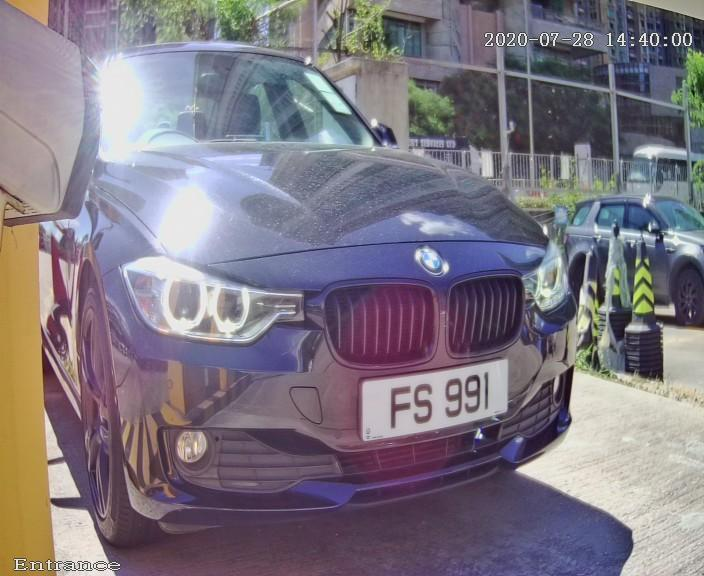privatecar: (19, 8, 629, 569)
